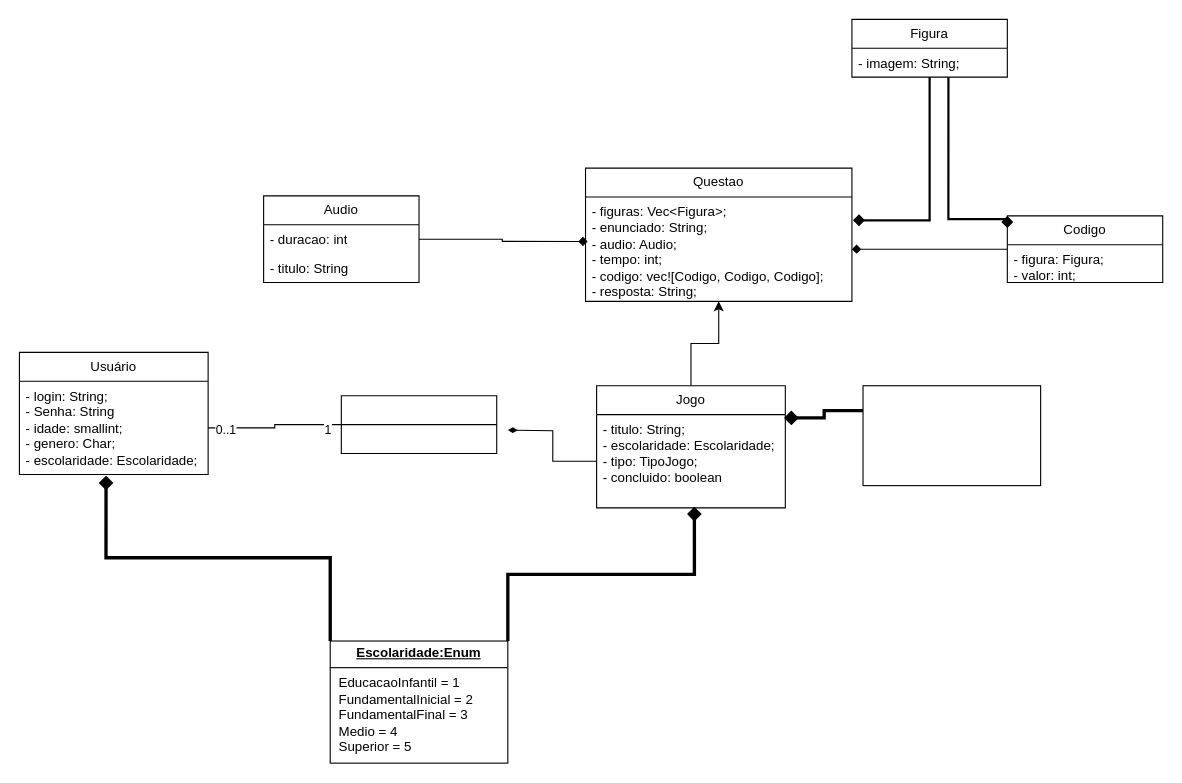
This 1182x783 diagram has some shape labels left out. The shapes that lost their labels are listed below. From the top down, each one's centre as x and y in pixels, then its label:
At pixel 418 424: "CaminhoJogos<Fila>".
At pixel 951 435: "TipoJogo:Enum QuebraCabeca = 1 Colorir = 2 Escrita = 3 Conexao = 4".
